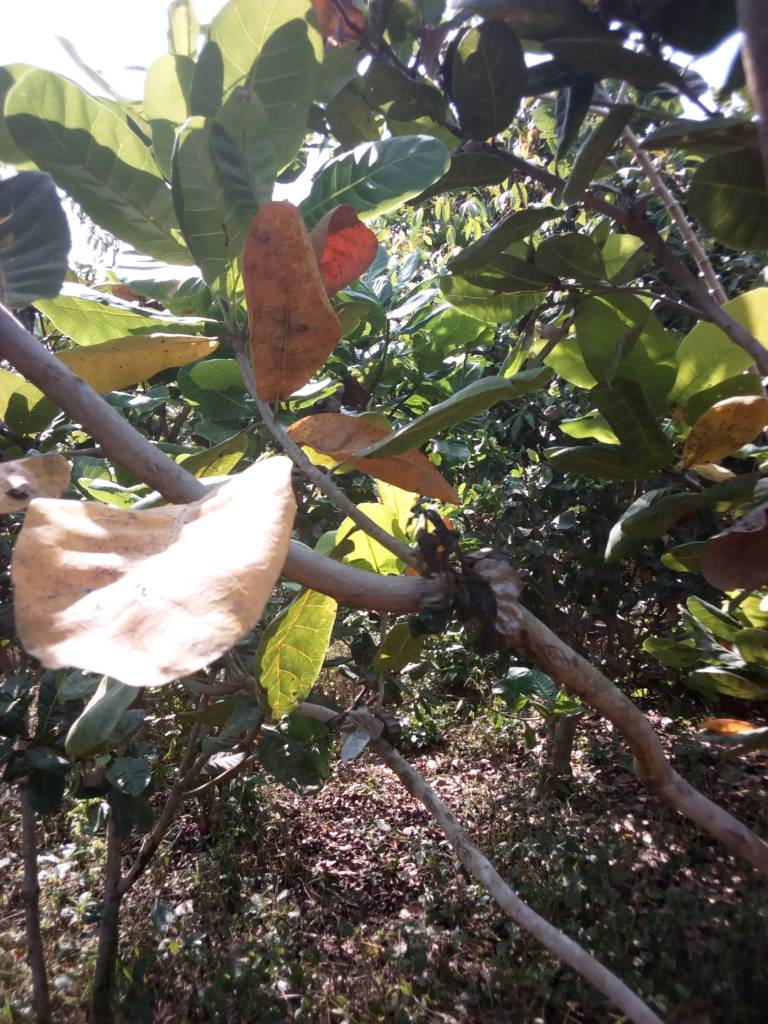Anthracnose: (244, 208, 343, 407), (672, 392, 768, 478)
